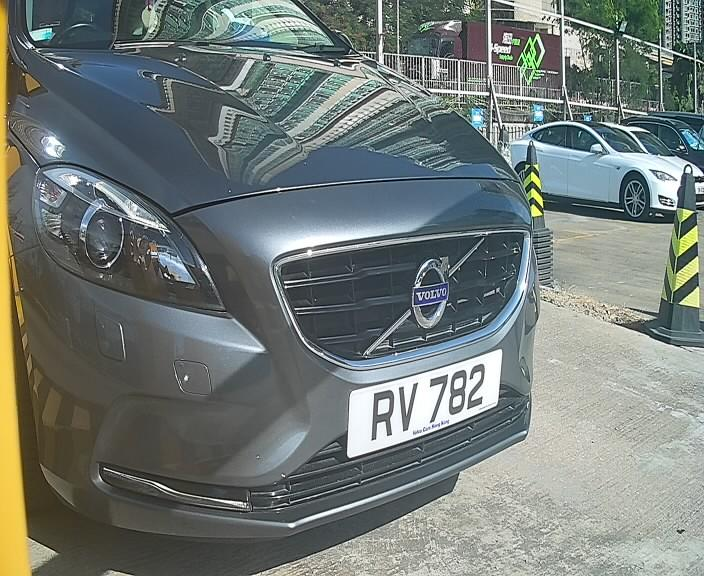Car: (10, 3, 604, 571)
License Plate: (343, 350, 503, 456)
